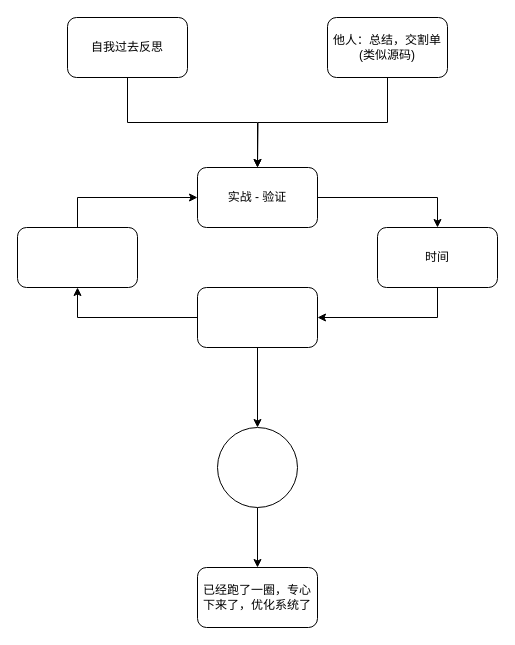
This 515x645 diagram has some shape labels left out. Here are the shapes that lost their labels. From the top down, the centre of each, then its label:
point (77, 257): 调整
point (257, 317): 阶段
point (257, 467): 系统
